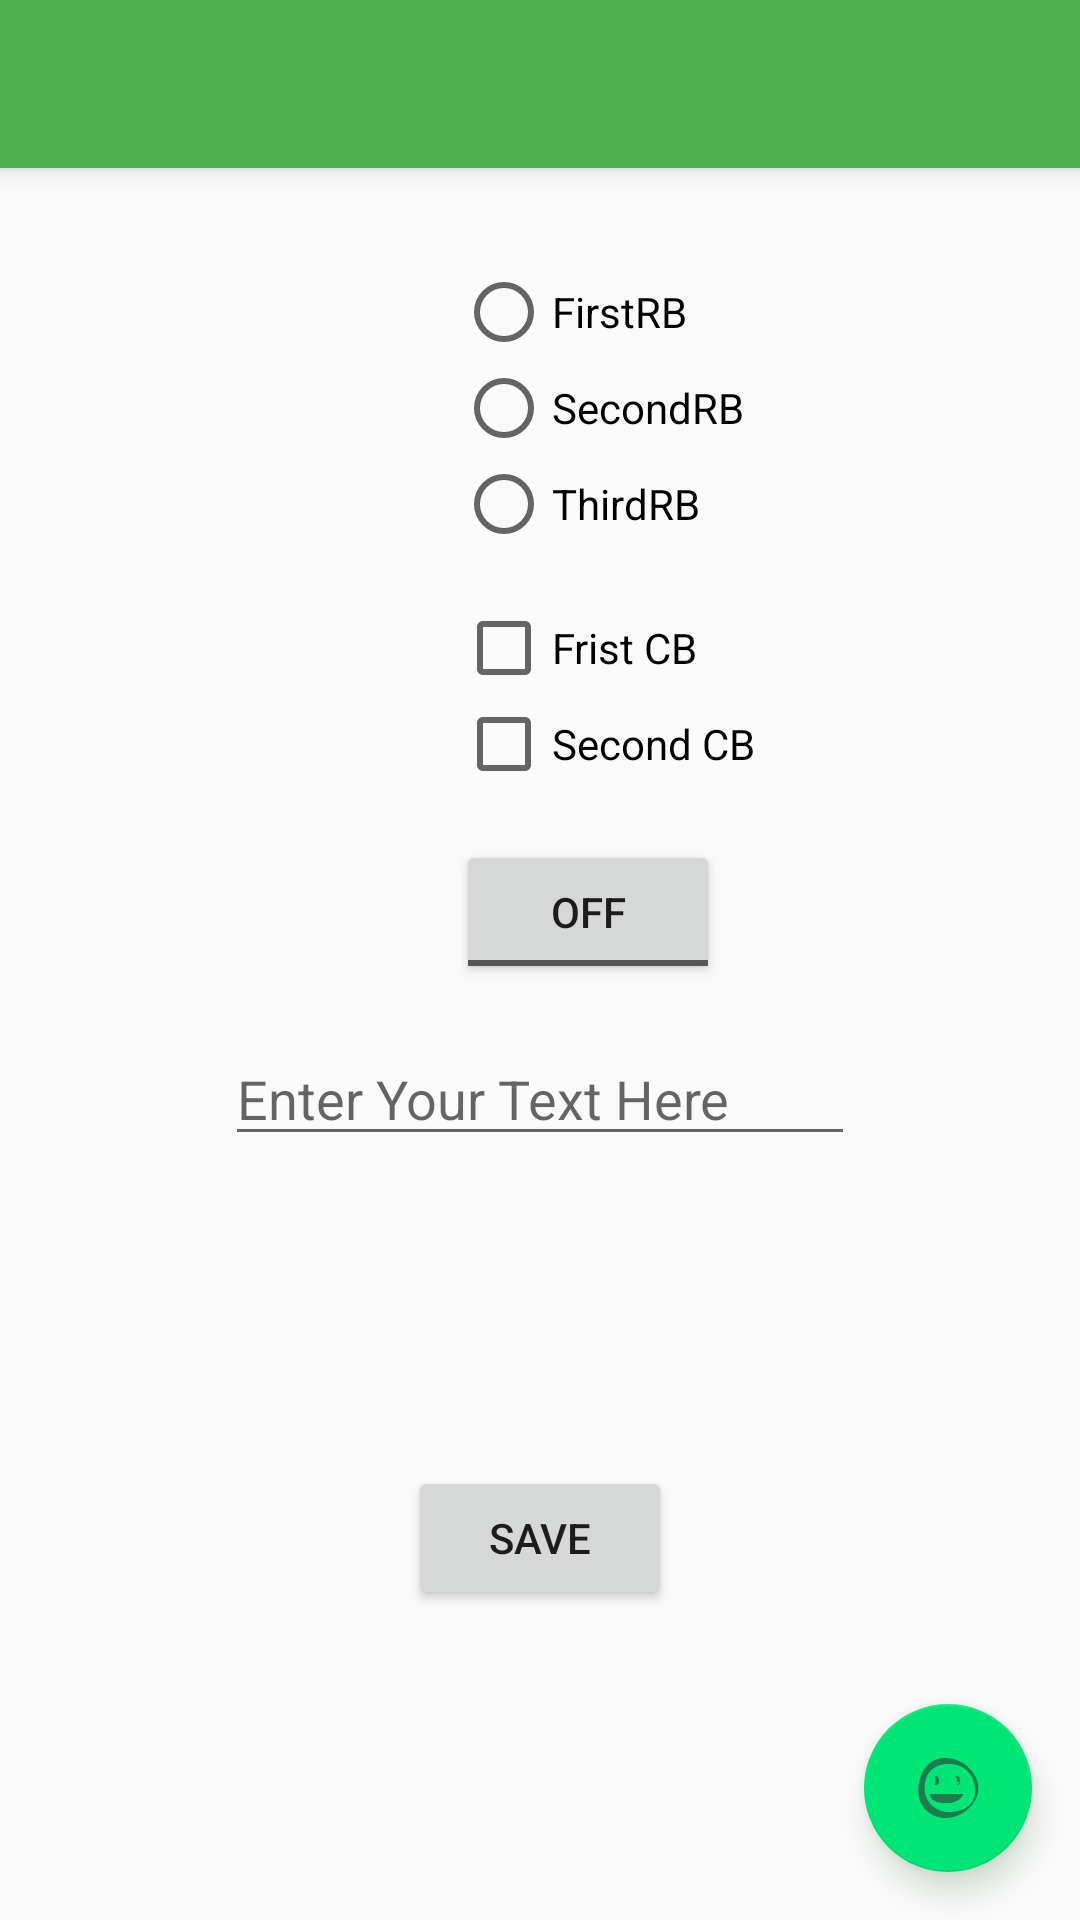

Screen size 1080 x 1920. Icon name, then its center in pixels as point (x, y):
face: point (948, 1788)
